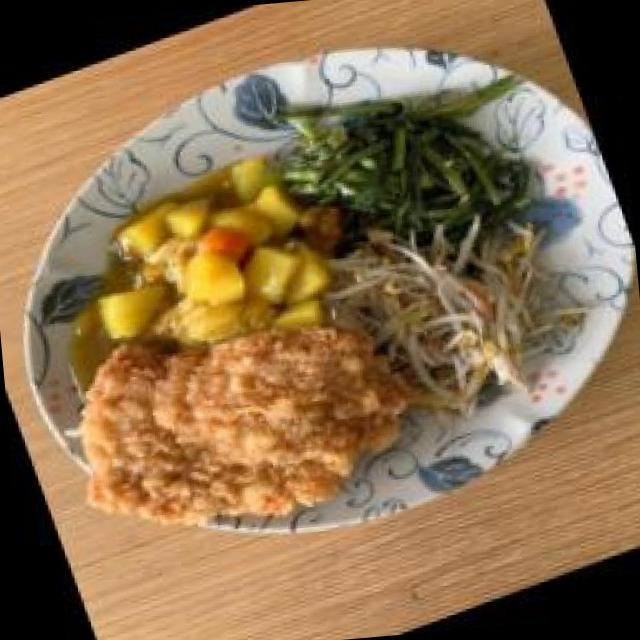curry: (109, 192, 304, 350)
fried_chicken: (86, 324, 373, 525)
mung_bean_sprouts: (350, 220, 552, 404)
water_spinach: (318, 80, 494, 236)
